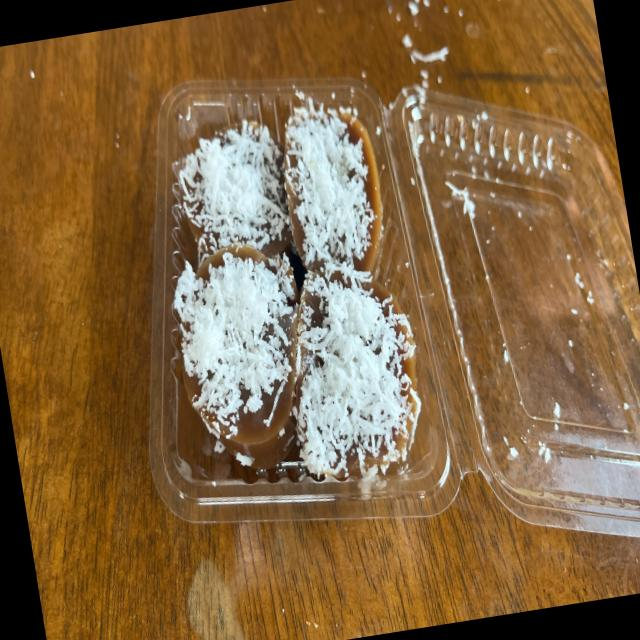Kuih lompang: (173, 243, 298, 469), (294, 266, 421, 479), (284, 99, 383, 272), (178, 120, 291, 262)
